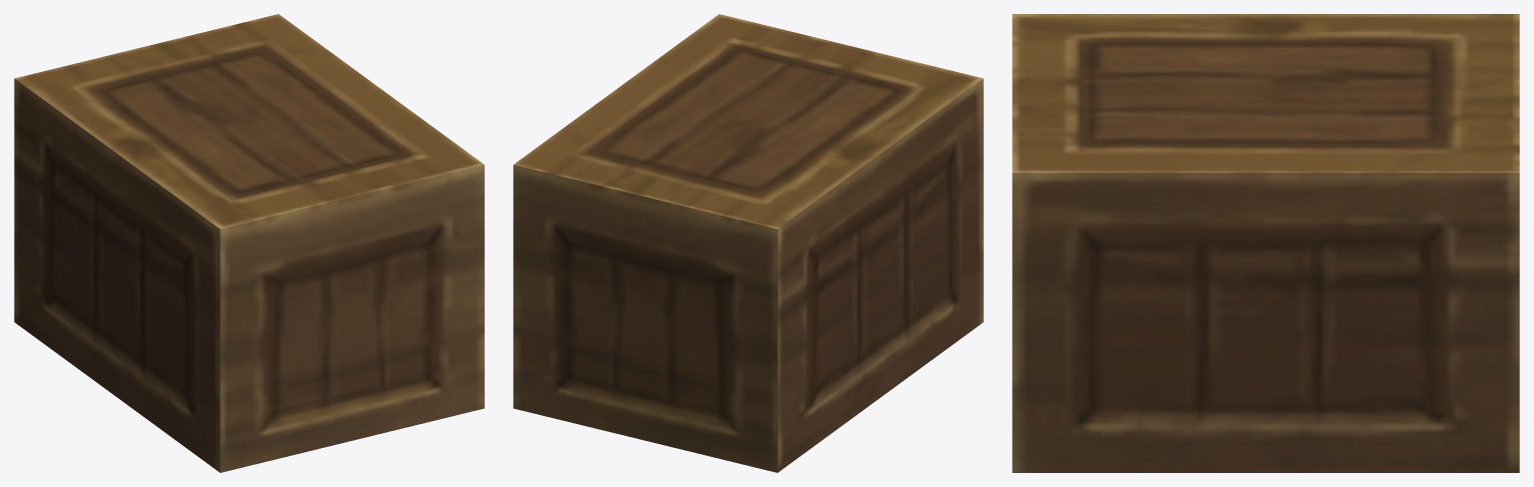
File: Stage_CaoYuan_XiangZi.FBX
The picture shows the model from 3 angles, left to right: view 1: azimuth 30°, elevation 25°; view 2: azimuth 150°, elevation 25°; view 3: azimuth 270°, elevation 25°; orthographic projection. The views are drawn at different scales.
Visible parts, largest first — view 1: Stage_CaoYuan_XiangZi; view 2: Stage_CaoYuan_XiangZi; view 3: Stage_CaoYuan_XiangZi.
Part boxes in pixels (<box>): Stage_CaoYuan_XiangZi: <box>14,14,484,472</box>; Stage_CaoYuan_XiangZi: <box>513,14,983,472</box>; Stage_CaoYuan_XiangZi: <box>1012,14,1519,472</box>.
Bounding box in the file's own units: 60.22 × 53.04 × 81.29.
